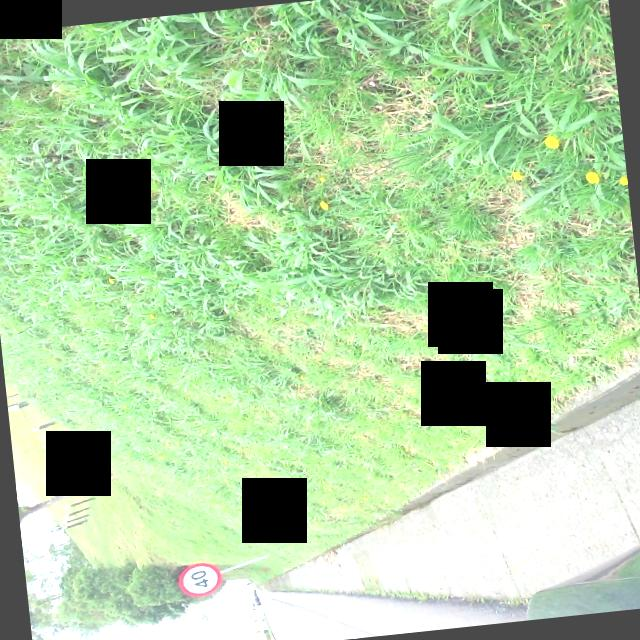DITCH: (86, 0, 640, 603), (233, 362, 640, 637)
